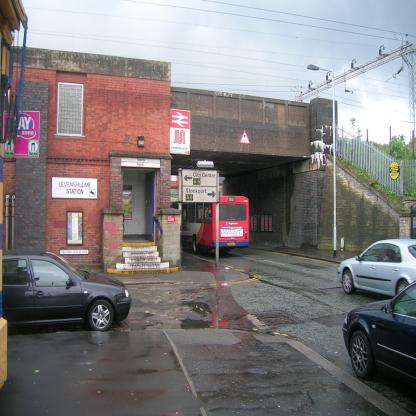Car: (1, 251, 135, 336), (342, 283, 416, 382), (337, 238, 416, 301)
